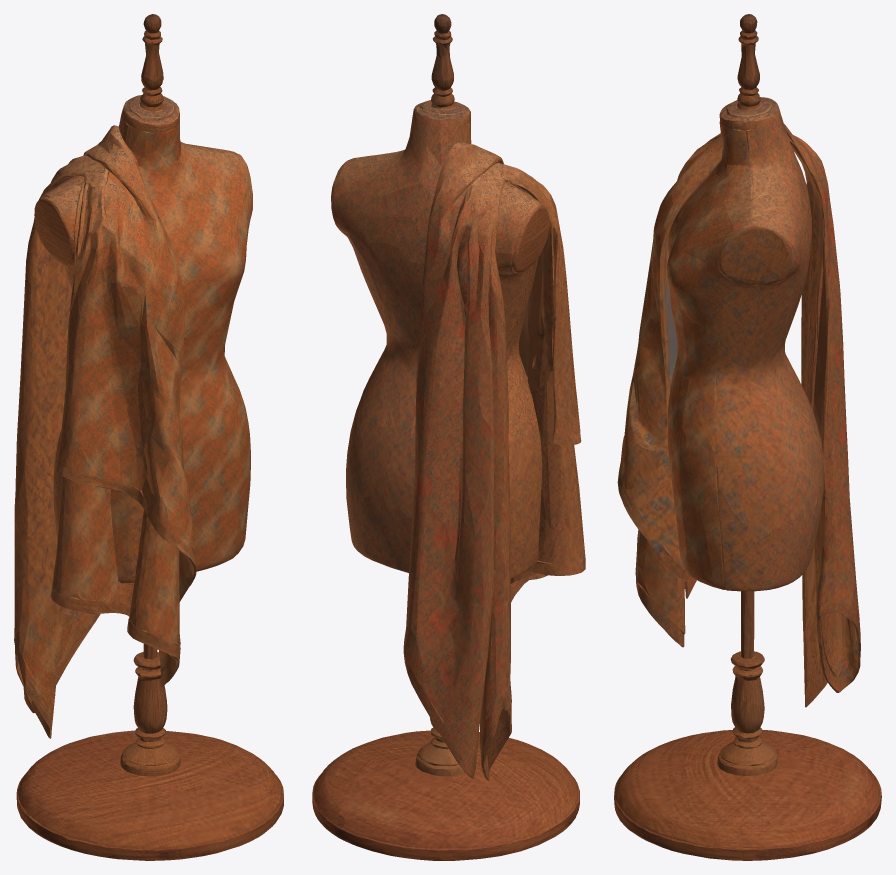
The model's file is PROP_DRESS_FORM_001.glb.
3 views of the same model, side by side, from view 1: azimuth 30°, elevation 25°; view 2: azimuth 150°, elevation 25°; view 3: azimuth 270°, elevation 25° (orthographic).
Bounding box in the file's own units: 0.5867 × 1.9 × 0.5834.
1 material, 1 textured.
